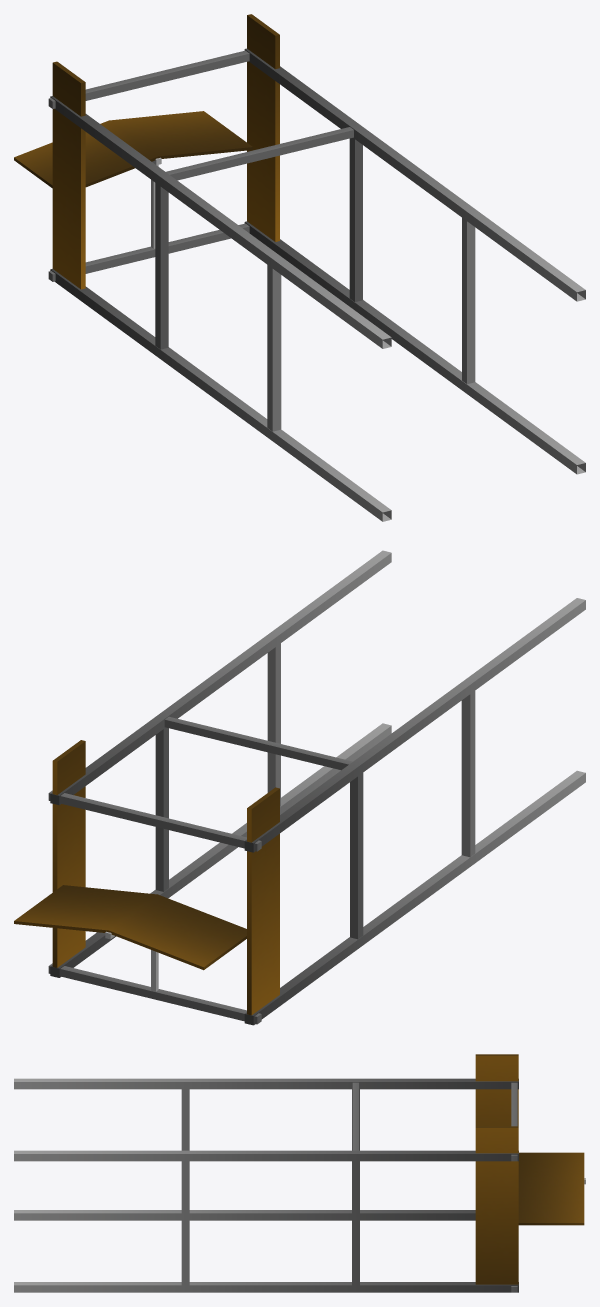
File: Cola2.obj
The picture shows the model from 3 angles, top to bottom: view 1: azimuth 30°, elevation 25°; view 2: azimuth 150°, elevation 25°; view 3: azimuth 270°, elevation 25°; orthographic projection. The views are drawn at different scales.
Parts seen in each view (by area): view 1: Cola2; view 2: Cola2; view 3: Cola2.
Part boxes in pixels (<box>): Cola2: <box>14,14,585,521</box>; Cola2: <box>14,550,585,1025</box>; Cola2: <box>14,1054,585,1292</box>.
Bounding box in the file's own units: 22.79 × 22.5 × 71.19.
Materials: 1 (1 with a texture image).
